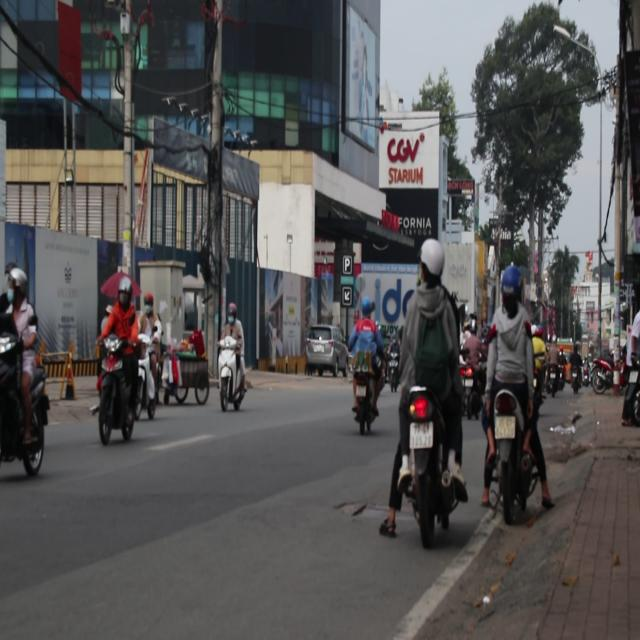car: (304, 323, 350, 375)
motorbike: (399, 386, 459, 549), (488, 383, 542, 526), (0, 328, 49, 479), (95, 335, 144, 446), (217, 340, 249, 408), (352, 372, 376, 429), (590, 358, 613, 394)
